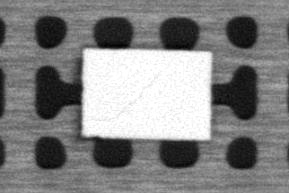DIE_CRACK: (112, 73, 160, 120)
